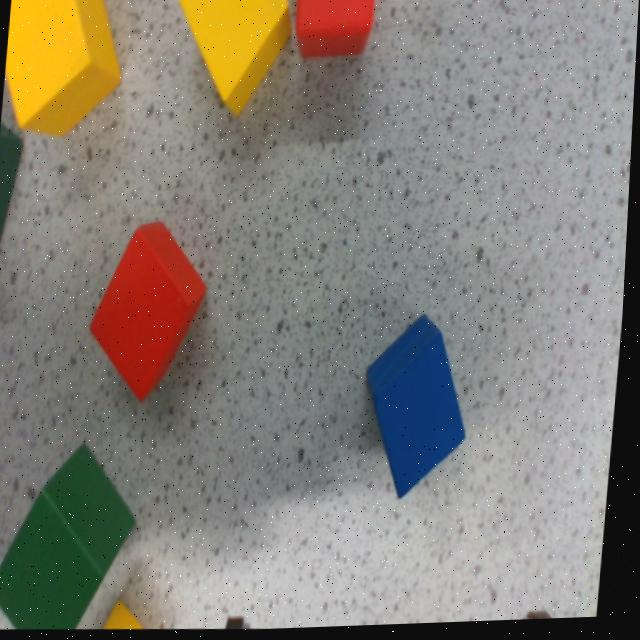blue_cube: (359, 316, 480, 500)
green_cube: (0, 438, 161, 640), (0, 123, 23, 242)
red_cube: (71, 214, 228, 404), (296, 0, 374, 59)
yellow_cube: (5, 0, 120, 135), (179, 0, 290, 116), (110, 601, 149, 629)
